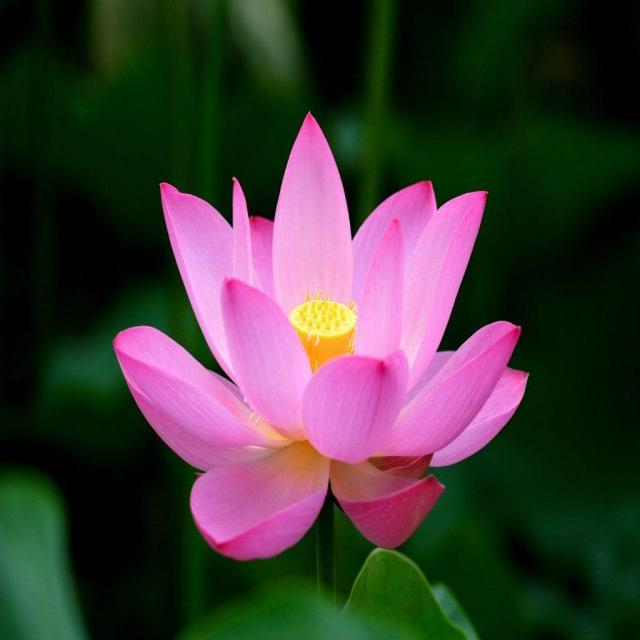organic waste: (104, 98, 550, 586)
